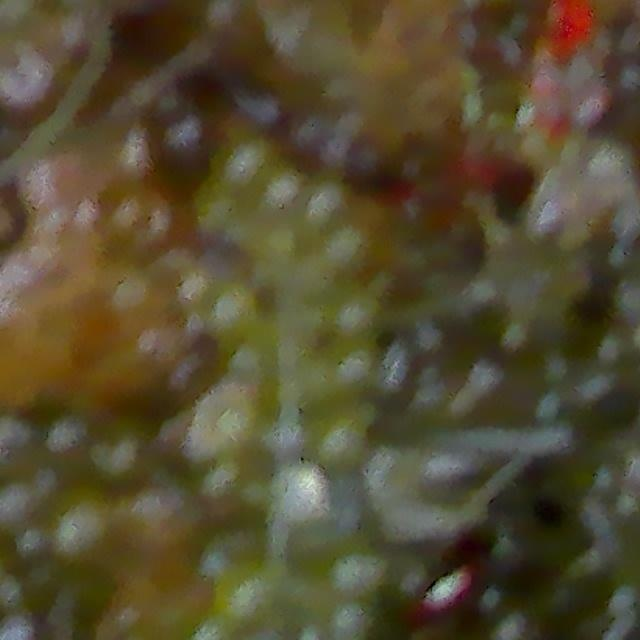SeaGrape: (204, 281, 257, 351), (223, 576, 277, 638), (158, 111, 216, 166), (270, 463, 325, 519), (224, 137, 272, 197), (332, 558, 385, 606), (329, 289, 379, 339), (261, 165, 307, 218), (329, 360, 378, 407), (297, 189, 343, 235), (318, 223, 363, 267), (324, 602, 375, 640), (327, 424, 359, 464)
